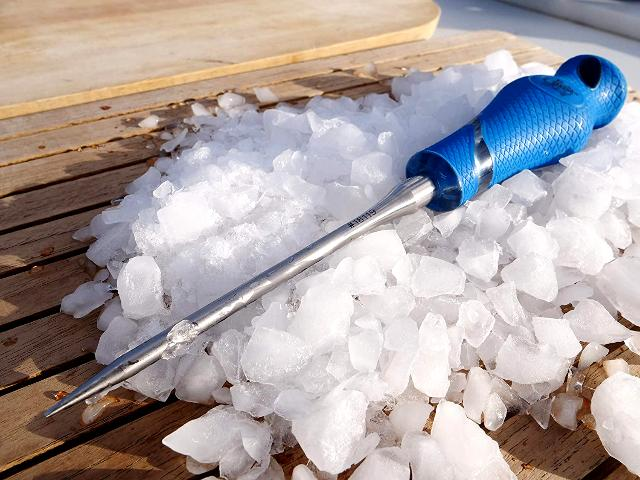ice pick: (45, 54, 627, 416)
